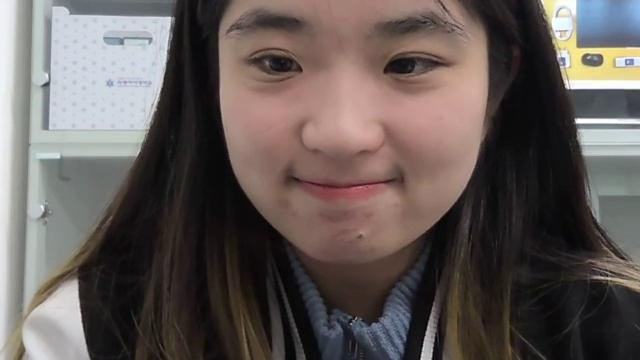eye: (272, 56, 291, 72), (395, 59, 413, 75)
iris: (392, 57, 437, 75), (256, 54, 296, 74)
